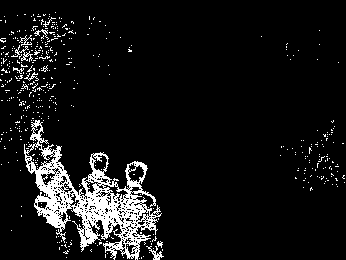person: (115, 158, 164, 260), (37, 141, 82, 247), (80, 147, 120, 256), (21, 121, 50, 188)
